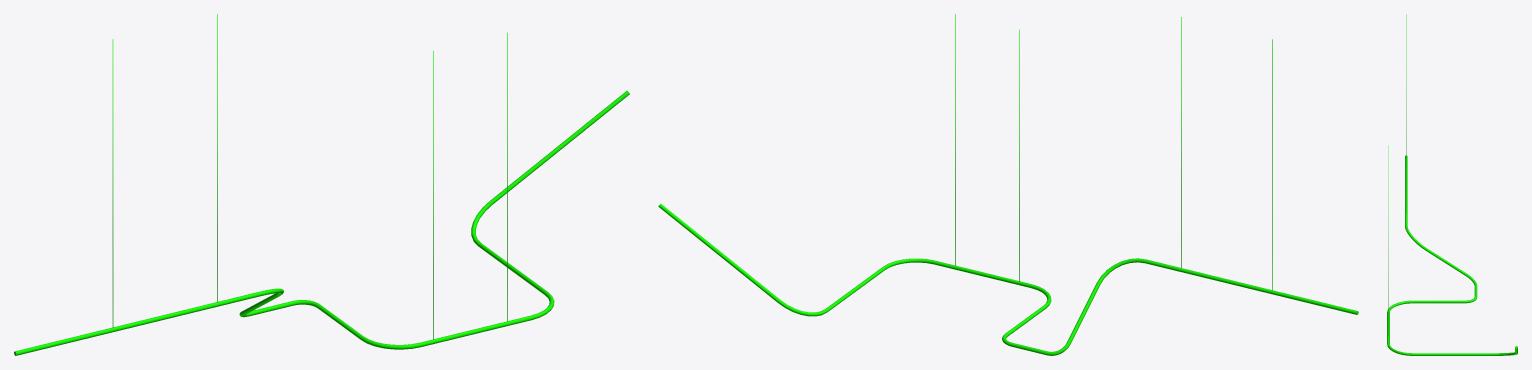
File: main_Stage1Rail002.fbx
The picture shows the model from 3 angles, left to right: view 1: azimuth 30°, elevation 25°; view 2: azimuth 150°, elevation 25°; view 3: azimuth 270°, elevation 25°; orthographic projection. The views are drawn at different scales.
Parts seen in each view (by area): view 1: main_Stage1Rail002; view 2: main_Stage1Rail002; view 3: main_Stage1Rail002.
Boxes of the visible parts, <box> form: main_Stage1Rail002: <box>14,14,629,355</box>; main_Stage1Rail002: <box>658,14,1358,355</box>; main_Stage1Rail002: <box>1387,14,1517,355</box>.
Bounding box in the file's own units: 174 × 86.27 × 47.39.
